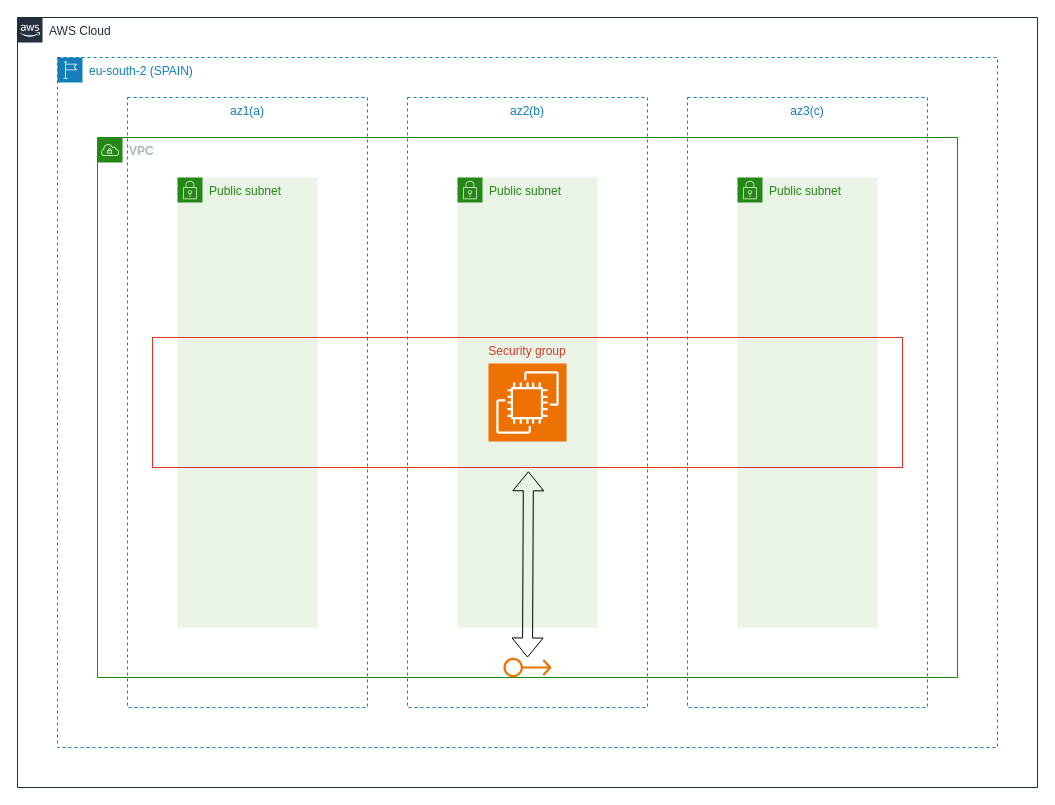
Some shapes in this 1055 by 805 pixel diagram are drawn without their labels. The shapes that lost their labels are listed below. From the top down, each one's centre as x and y in pixels, then its label:
the point at 527,402: OpenVPN
the point at 527,667: EIP
